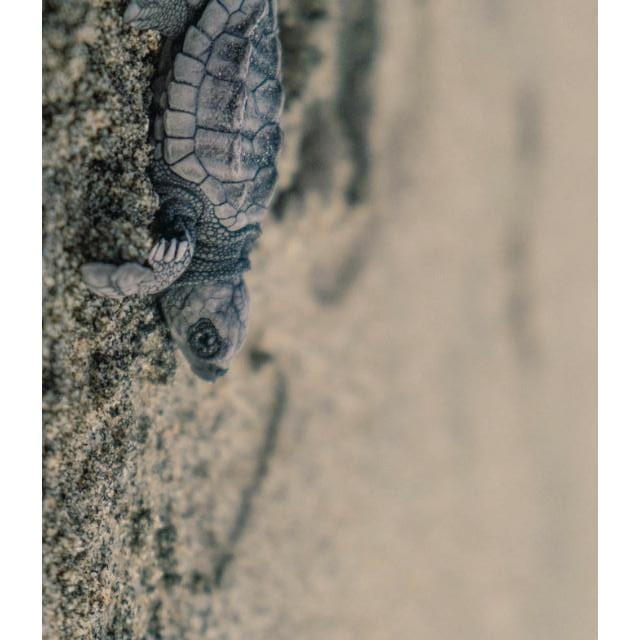turtle: (76, 0, 284, 383)
